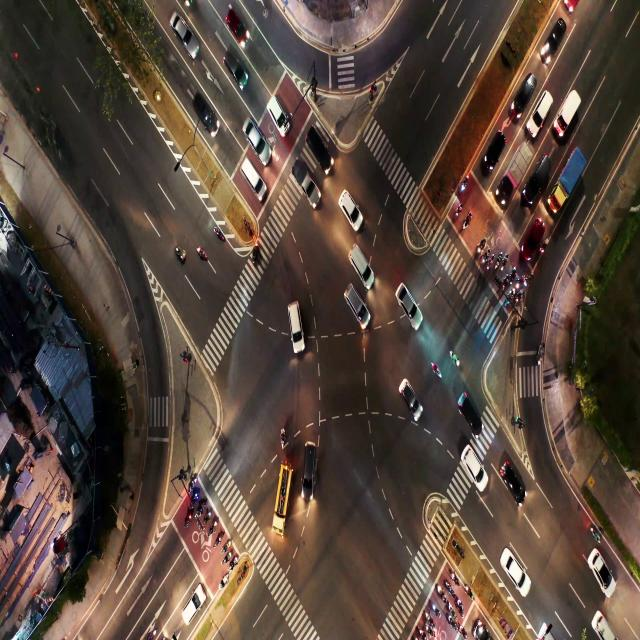bus: (278, 471, 290, 501)
car: (462, 404, 484, 424), (252, 129, 266, 158), (195, 98, 211, 121), (353, 253, 369, 275), (177, 17, 190, 41), (348, 289, 363, 309), (310, 134, 326, 152), (403, 385, 418, 404), (269, 96, 281, 118), (230, 58, 241, 79), (305, 445, 311, 482), (231, 15, 242, 35), (246, 162, 256, 184), (507, 469, 518, 488), (187, 597, 198, 615), (520, 87, 531, 105), (508, 560, 519, 578), (340, 194, 354, 208), (291, 317, 300, 337), (466, 450, 474, 472), (403, 300, 416, 312), (536, 167, 544, 183), (594, 556, 602, 572), (491, 136, 496, 156), (532, 228, 538, 243), (541, 101, 547, 116), (477, 626, 486, 636), (554, 27, 558, 44)
motorcycle: (174, 246, 187, 265), (214, 222, 224, 242), (431, 361, 442, 376), (424, 609, 433, 625), (448, 350, 458, 363), (198, 247, 208, 259), (539, 342, 543, 366), (592, 528, 599, 541), (184, 510, 190, 524), (462, 175, 467, 191), (282, 428, 286, 444), (452, 572, 458, 582), (432, 602, 438, 612), (465, 213, 470, 224), (440, 588, 445, 599), (462, 626, 467, 637), (466, 587, 472, 596), (448, 584, 454, 593), (427, 626, 433, 635), (417, 627, 423, 636), (479, 239, 484, 249), (511, 270, 515, 282), (252, 250, 257, 259), (457, 206, 462, 215), (504, 277, 508, 288), (451, 619, 455, 630), (498, 255, 501, 269), (224, 540, 228, 550), (220, 576, 225, 584), (522, 278, 526, 288), (458, 601, 462, 611), (449, 607, 454, 615), (205, 511, 208, 522), (542, 244, 547, 250), (190, 477, 194, 484), (192, 493, 195, 502), (504, 257, 507, 266), (216, 536, 220, 542), (224, 556, 228, 562), (232, 560, 235, 568), (489, 258, 493, 264), (509, 290, 512, 298), (517, 294, 520, 301), (200, 502, 202, 512), (212, 523, 215, 529), (485, 254, 488, 260), (517, 278, 519, 286)
truck: (298, 167, 312, 192), (562, 166, 572, 187), (564, 106, 573, 124), (518, 157, 522, 176)
